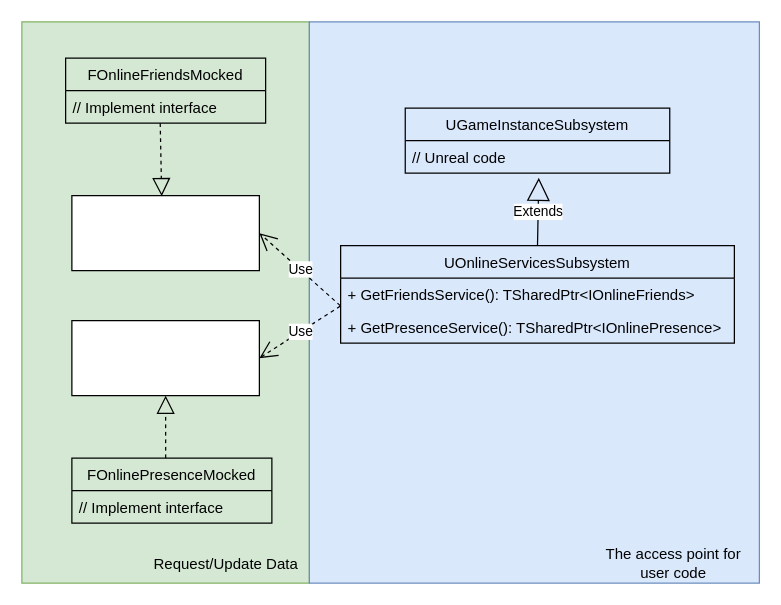
The diagram is 781 pixels wide and 605 high, and some of its shapes have lost their labels. The shapes that lost their labels are listed below. From the top down, each one's centre as x and y in pixels, then its label:
At point (165, 232): "«interface» IOnlineFriends".
At point (165, 357): "«interface» IOnlinePresence".
